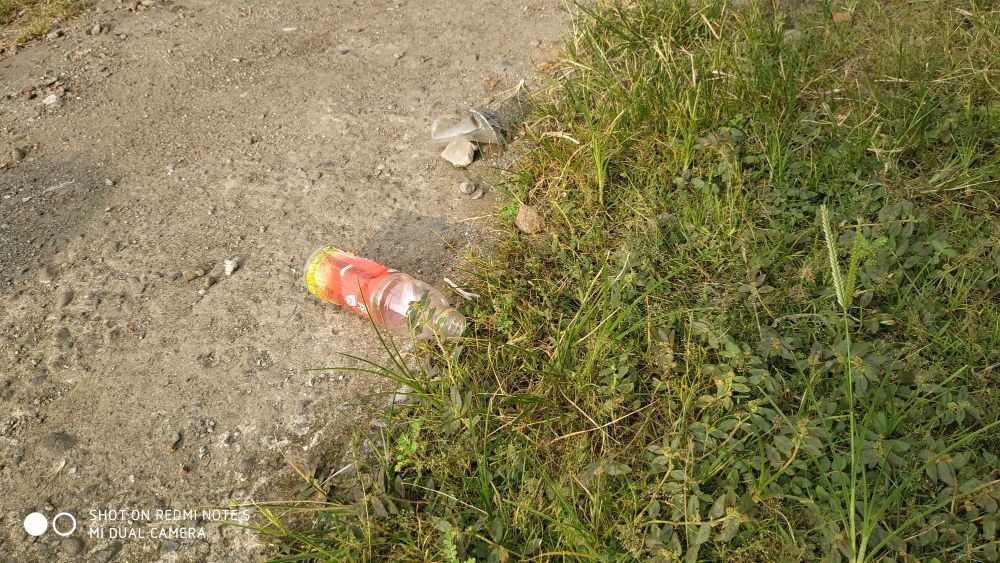botol: (287, 238, 474, 350)
